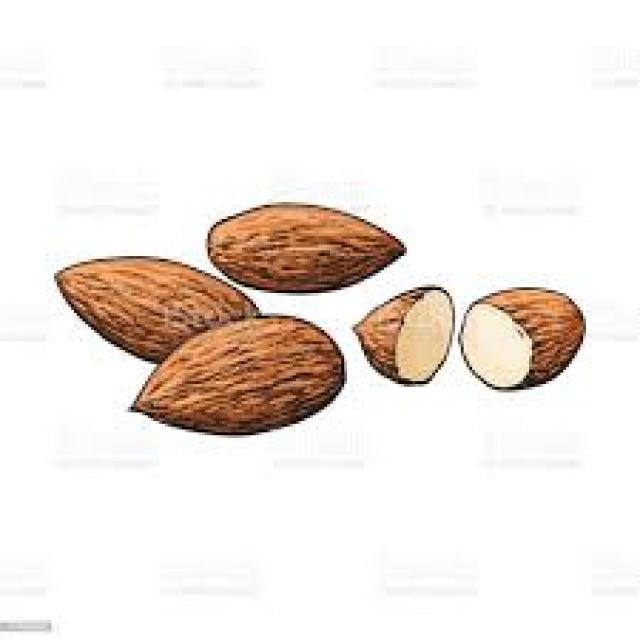almond: (130, 315, 348, 438), (55, 255, 262, 370), (207, 205, 405, 290)
